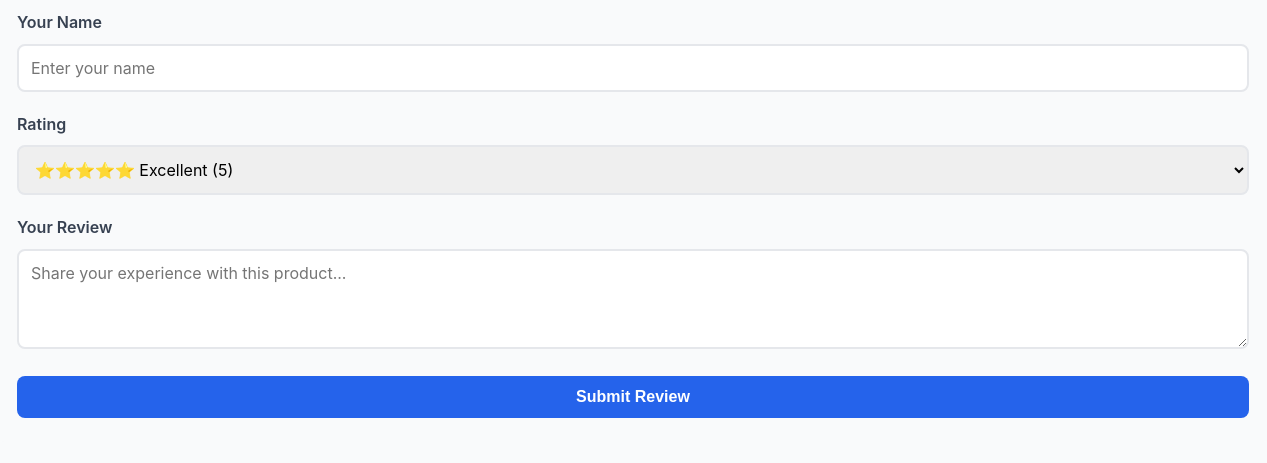
ReviewForm › shows validation error when comment is empty
This screenshot has width=1267, height=463.
Type "John Doe" into the field labelled "Your Name".
click(633, 68); type("John Doe")  # box [17,44,1249,92]
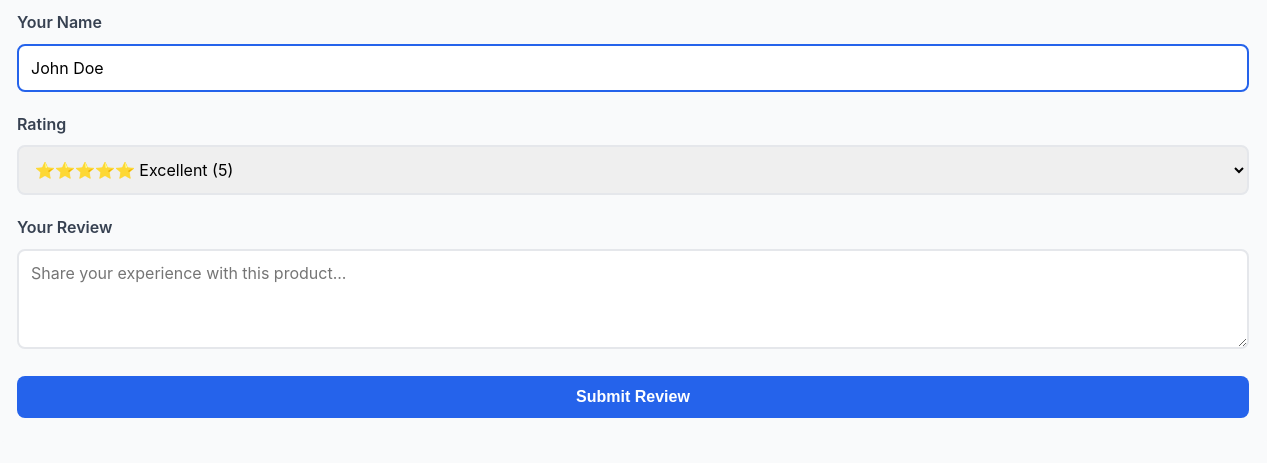
Click the button "Submit Review".
click(633, 397)  # box [17,376,1249,418]
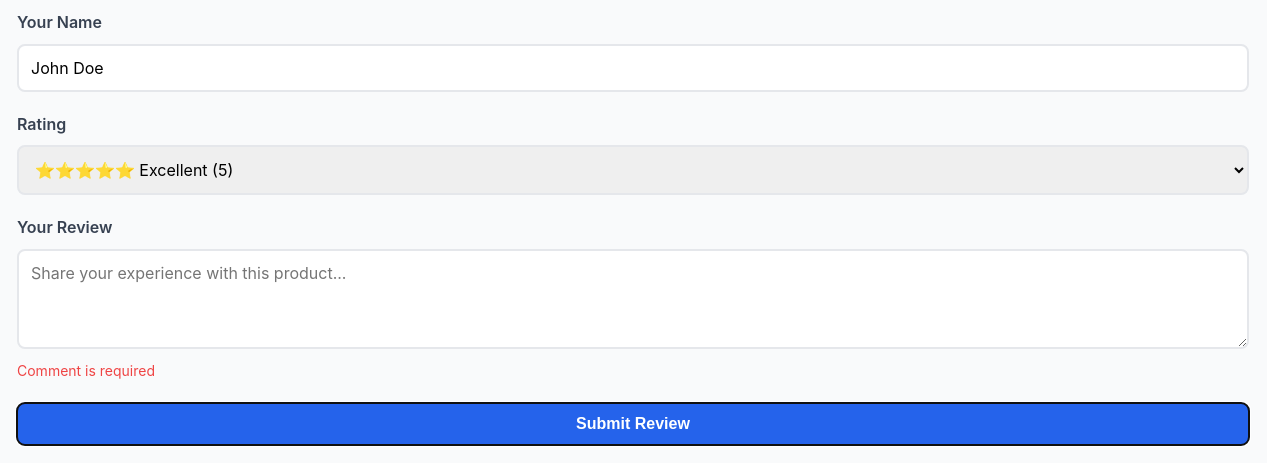
Check: the text "Comment is required" is shown, box [17,362,155,379]
